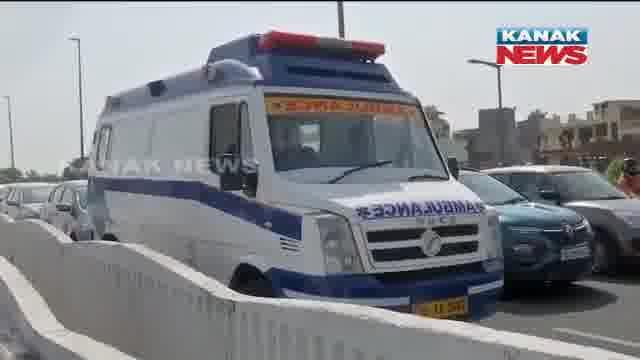AMBULANCE: (75, 23, 502, 318)
